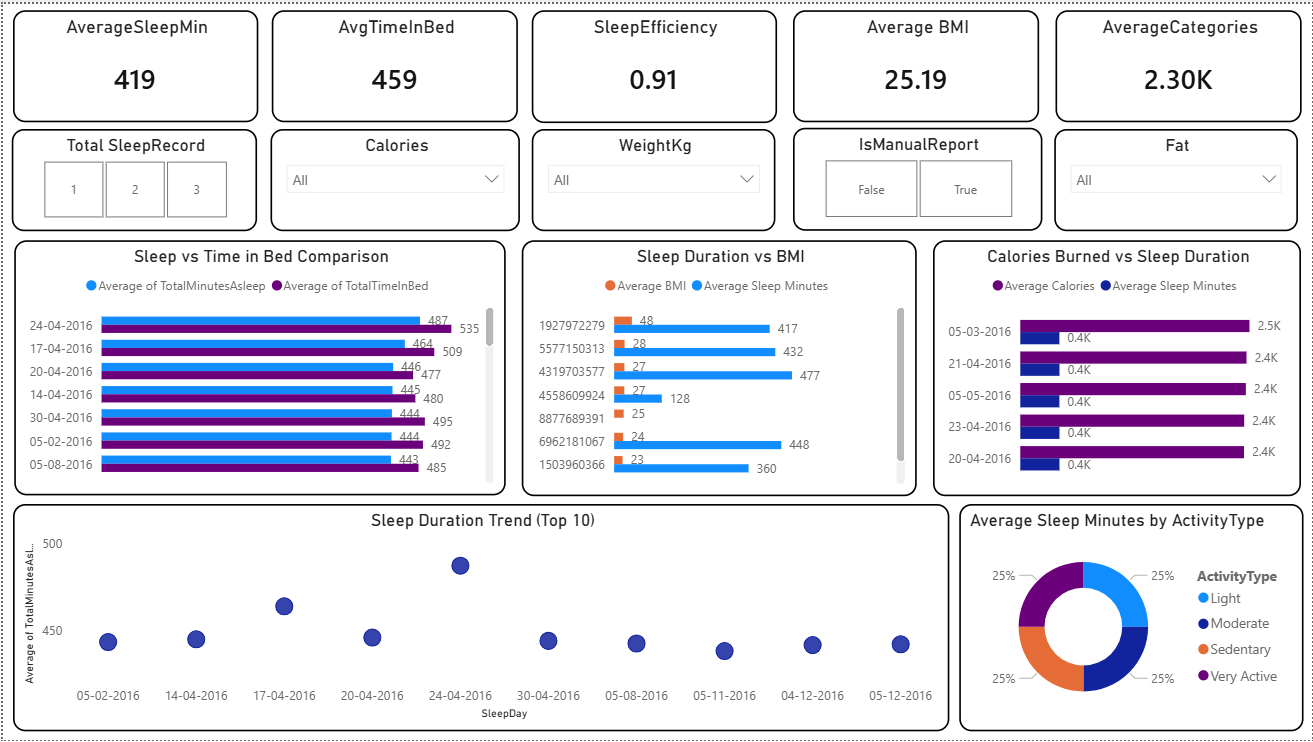

This screenshot's page, from the dashboard's own definition file:
{"tool":"powerbi","page":{"name":"2. Sleep vs Activity Insights Dashboard","canvas":[1280,720],"ordinal":1},"visuals":[{"type":"cardVisual","title":"SleepEfficiency","fields":{"Data":["sleepDay_merged.Sleep Efficiency"]},"box":[517.6,5.7,239.8,110],"z":0},{"type":"cardVisual","title":"AvgTimeInBed","fields":{"Data":["sleepDay_merged.Avg Time In Bed"]},"box":[262.6,5.8,241.1,109.8],"z":1000},{"type":"cardVisual","title":"Average BMI","fields":{"Data":["weightLogInfo_merged1.Average BMI"]},"box":[772.5,5.8,241.1,109.8],"z":2000},{"type":"cardVisual","title":"AverageSleepMin","fields":{"Data":["sleepDay_merged.Avg Sleep Minutes"]},"box":[10.1,5.8,239.8,109.8],"z":3000},{"type":"cardVisual","title":"AverageCategories","fields":{"Data":["dailyActivity_merged.Average Calories"]},"box":[1030.1,5.8,241.1,109.8],"z":4000},{"type":"scatterChart","title":"Sleep Duration Trend (Top 10)","fields":{"X":["sleepDay_merged.SleepDay"],"Y":["Avg(sleepDay_merged.TotalMinutesAsleep)"]},"box":[9.9,489,915.9,222],"z":5000},{"type":"clusteredBarChart","title":"Sleep vs Time in Bed Comparison","fields":{"Category":["sleepDay_merged.SleepDay"],"Y":["Avg(sleepDay_merged.TotalMinutesAsleep)","Avg(sleepDay_merged.TotalTimeInBed)"]},"box":[11.3,231.4,480.6,249.5],"z":6000},{"type":"clusteredBarChart","title":"Sleep Duration vs BMI","fields":{"Category":["weightLogInfo_merged1.Id"],"Y":["weightLogInfo_merged1.Average BMI","dailyActivity_merged.Average Sleep Minutes"]},"box":[507.1,230.9,386.3,250],"z":7000},{"type":"clusteredBarChart","title":"Calories Burned vs Sleep Duration","fields":{"Category":["dailyActivity_merged.ActivityDate"],"Y":["dailyActivity_merged.Average Calories","dailyActivity_merged.Average Sleep Minutes"]},"box":[909.8,230.9,359.8,250],"z":8000},{"type":"donutChart","fields":{"Category":["ActivityType.ActivityType"],"Y":["dailyActivity_merged.Average Sleep Minutes"]},"box":[935.5,488.9,337,222],"z":9000},{"type":"slicer","title":"Total SleepRecord","fields":{"Values":["sleepDay_merged.TotalSleepRecords"]},"box":[8.7,122,239.7,100],"z":10000},{"type":"slicer","title":"IsManualReport","fields":{"Values":["weightLogInfo_merged1.IsManualReport"]},"box":[772.5,121.5,243.6,101],"z":11000},{"type":"slicer","title":"Calories","fields":{"Values":["dailyActivity_merged.Calories"]},"box":[262.2,122,244.3,100],"z":12000},{"type":"slicer","title":"Fat","fields":{"Values":["weightLogInfo_merged1.Fat"]},"box":[1028.8,122,238.1,100],"z":13000},{"type":"slicer","title":"WeightKg","fields":{"Values":["weightLogInfo_merged1.WeightKg"]},"box":[517.3,121.9,238.5,100.3],"z":14000}]}

Visuals, with their boxes in screenshot pixels (x1, y1, x2, y2), scaled from the page's 1280x720 canvas onto the 1313x742 screenshot:
"SleepEfficiency" cardVisual: left=531, top=6, right=777, bottom=119
"AvgTimeInBed" cardVisual: left=269, top=6, right=517, bottom=119
"Average BMI" cardVisual: left=792, top=6, right=1040, bottom=119
"AverageSleepMin" cardVisual: left=10, top=6, right=256, bottom=119
"AverageCategories" cardVisual: left=1057, top=6, right=1304, bottom=119
"Sleep Duration Trend (Top 10)" scatterChart: left=10, top=504, right=950, bottom=733
"Sleep vs Time in Bed Comparison" clusteredBarChart: left=12, top=238, right=505, bottom=496
"Sleep Duration vs BMI" clusteredBarChart: left=520, top=238, right=916, bottom=496
"Calories Burned vs Sleep Duration" clusteredBarChart: left=933, top=238, right=1302, bottom=496
donutChart - ActivityType.ActivityType x dailyActivity_merged.Average Sleep Minutes: left=960, top=504, right=1305, bottom=733
"Total SleepRecord" slicer: left=9, top=126, right=255, bottom=229
"IsManualReport" slicer: left=792, top=125, right=1042, bottom=229
"Calories" slicer: left=269, top=126, right=520, bottom=229
"Fat" slicer: left=1055, top=126, right=1300, bottom=229
"WeightKg" slicer: left=531, top=126, right=775, bottom=229
